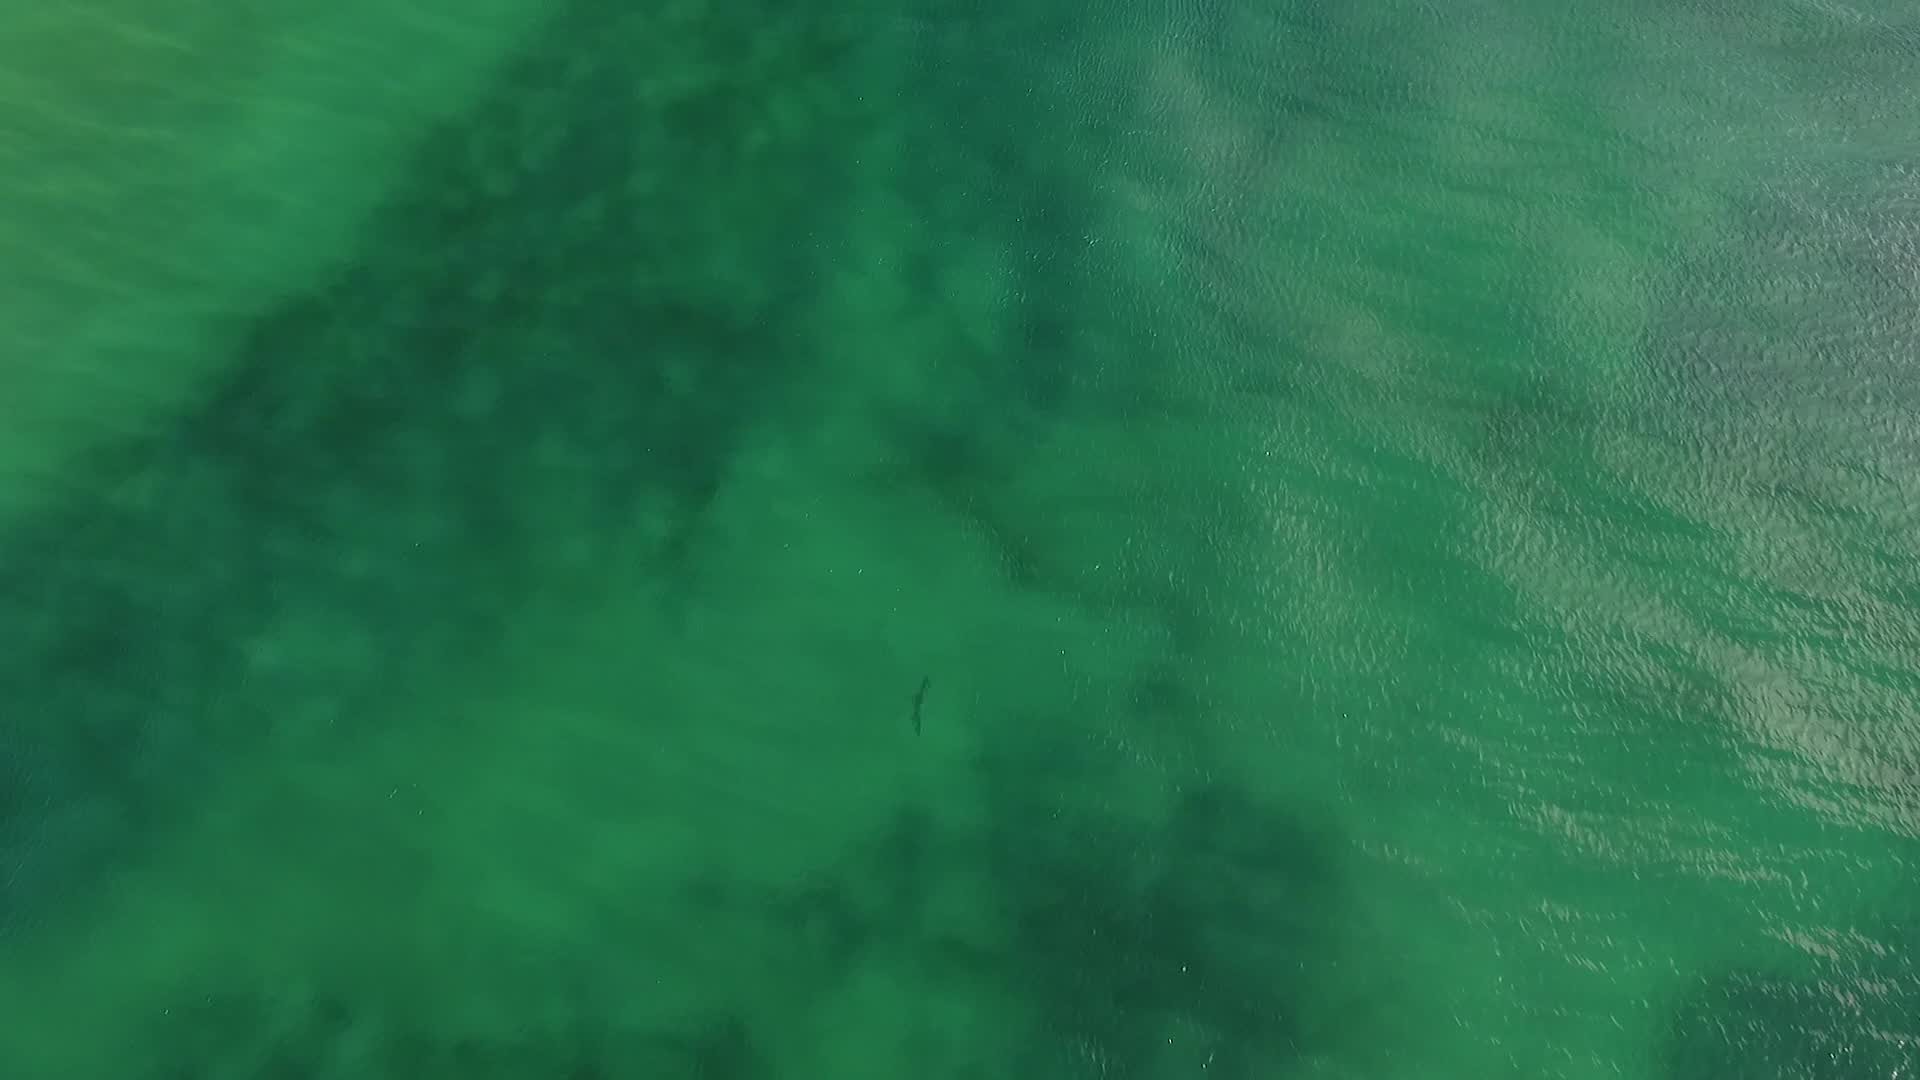shark: (905, 673, 935, 737)
